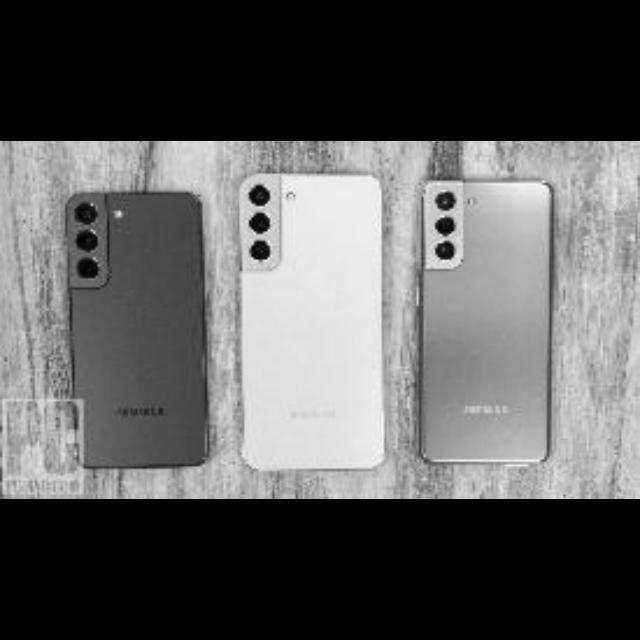fake: (240, 174, 389, 473), (58, 196, 214, 468), (414, 176, 554, 466)
